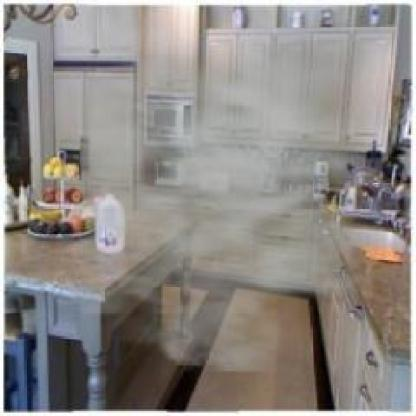Smoke: (19, 25, 387, 372)
